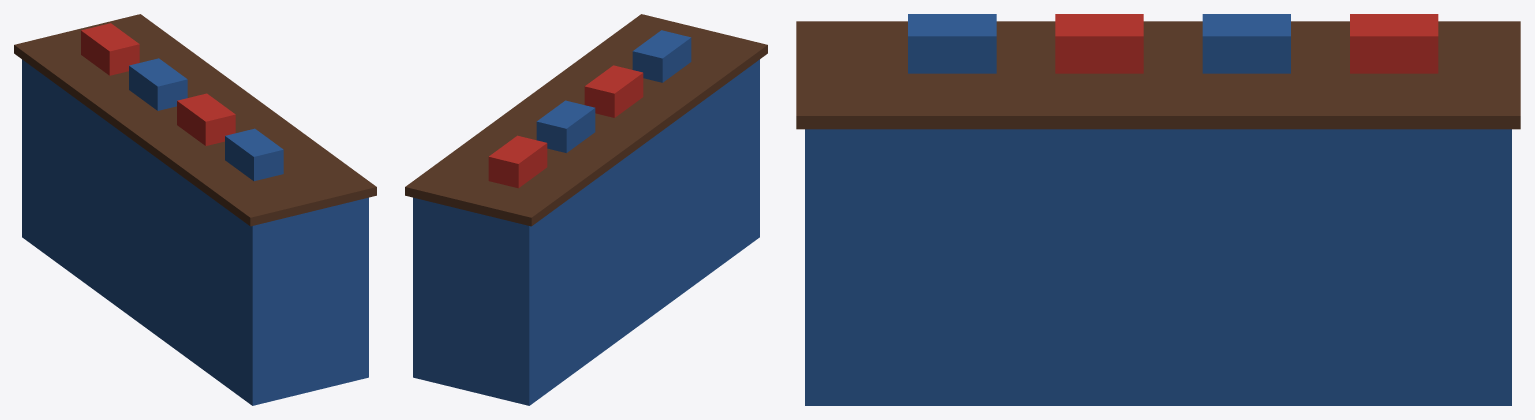
Rendered from desk.glb.
3 renders of one model, left to right at view 1: azimuth 30°, elevation 25°; view 2: azimuth 150°, elevation 25°; view 3: azimuth 270°, elevation 25°, orthographic. The views are drawn at different scales.
Parts seen in each view (by area): view 1: Box1, Box2, Box6, Box3, Box4, Box5; view 2: Box1, Box2, Box3, Box6, Box4, Box5; view 3: Box1, Box2, Box3, Box4, Box5, Box6.
Boxes of the visible parts, bbox=[...] form: Box1: bbox=[22, 59, 368, 405]; Box2: bbox=[14, 14, 376, 226]; Box6: bbox=[225, 128, 283, 181]; Box3: bbox=[81, 23, 139, 75]; Box4: bbox=[129, 58, 187, 110]; Box5: bbox=[177, 93, 235, 145]; Box1: bbox=[413, 59, 759, 405]; Box2: bbox=[405, 14, 767, 226]; Box3: bbox=[488, 135, 547, 188]; Box6: bbox=[632, 30, 691, 82]; Box4: bbox=[536, 100, 595, 152]; Box5: bbox=[584, 65, 643, 117]; Box1: bbox=[805, 129, 1511, 405]; Box2: bbox=[796, 21, 1520, 129]; Box3: bbox=[1350, 14, 1438, 73]; Box4: bbox=[1202, 14, 1290, 73]; Box5: bbox=[1055, 14, 1143, 73]; Box6: bbox=[908, 14, 996, 73].
Size of the model in its own units: 0.76 by 1.24 by 2.46.
